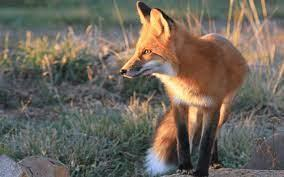fox: (71, 0, 276, 177)
